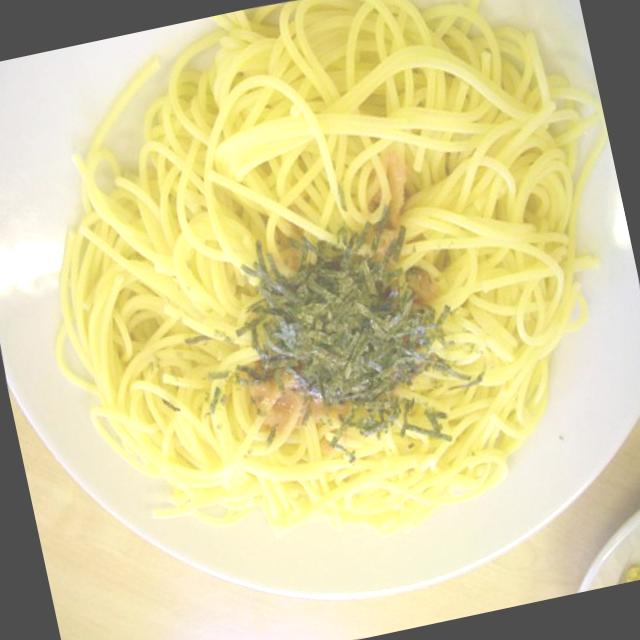Pasta: (26, 0, 640, 591)
